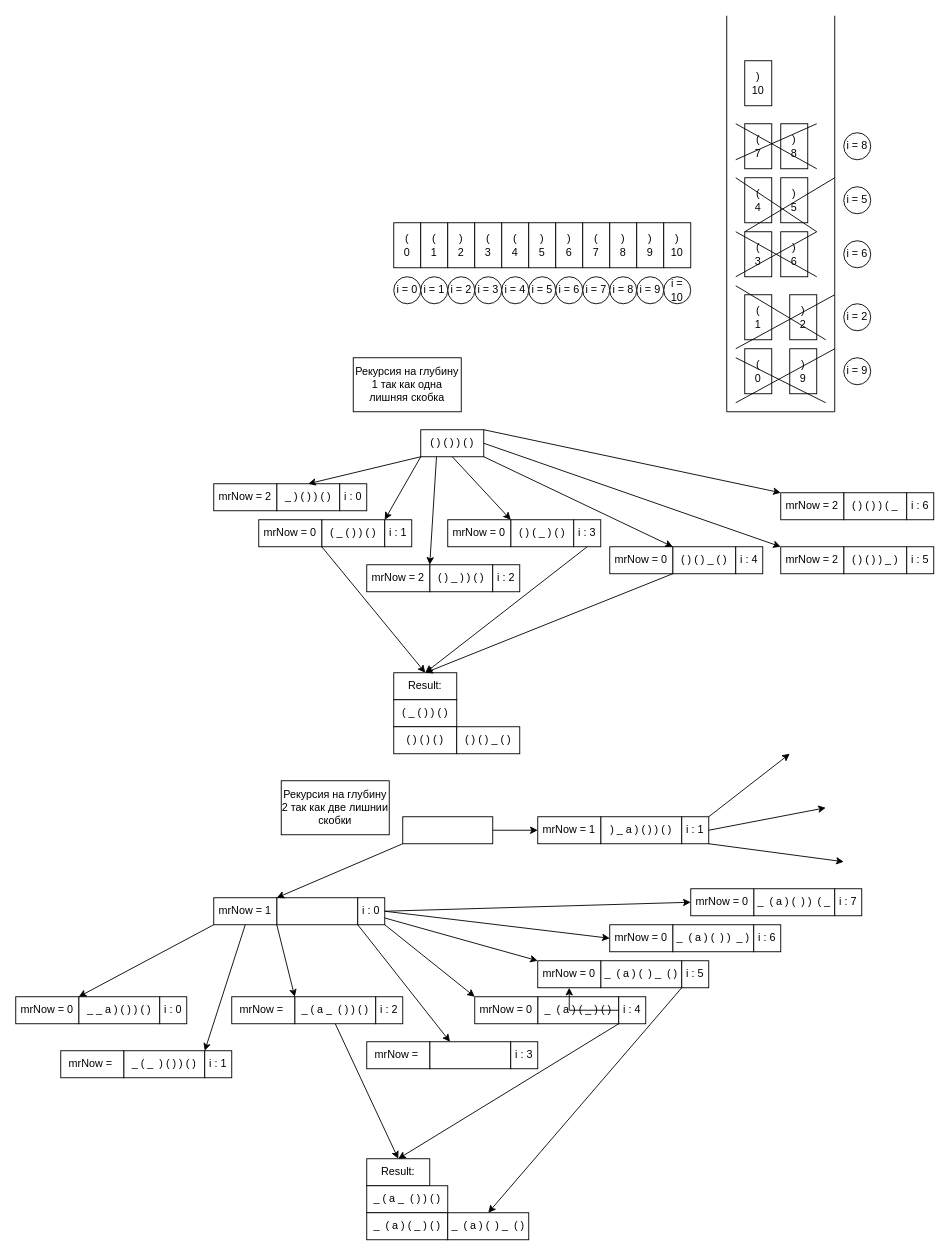
This 950x1256 diagram has some shape labels left out. The shapes that lost their labels are listed below. From the top down, each one's centre as x and y in pixels, then its label:
(x=447, y=830): ) ( a ) ( ) ) ( )
(x=317, y=911): _ ( a ) ( ) ) ( )
(x=470, y=1055): _ ( a ) _) ) ( )
